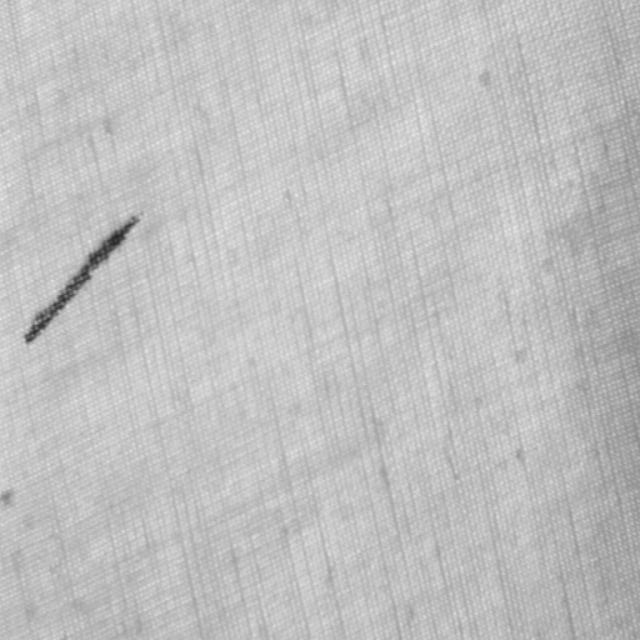oil spot: (21, 207, 142, 345)
